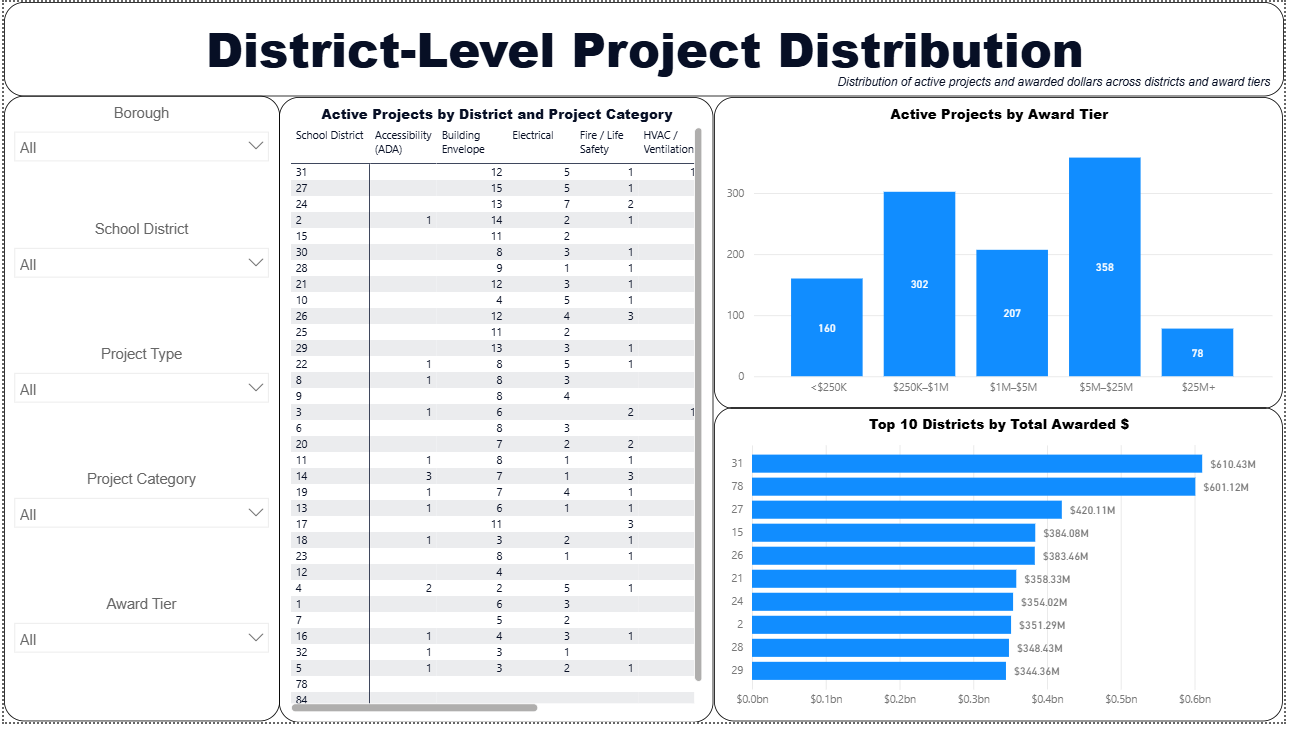

The page's visual inventory and layout, read from the dashboard file:
{"tool":"powerbi","page":{"name":"District Distribution","canvas":[1280,720],"ordinal":1},"visuals":[{"type":"textbox","box":[0,0,1280,94.3],"z":0},{"type":"textbox","box":[700,63.8,571.2,61.2],"z":1000},{"type":"shape","box":[0,94.3,275.7,625.7],"z":2000},{"type":"slicer","title":"Borough","fields":{"Values":["Fact_ActiveProjects_All.Borough"]},"box":[0,102.5,275,116.2],"z":3000},{"type":"slicer","title":"School District","fields":{"Values":["Fact_ActiveProjects_All.School District"]},"box":[0,218.8,275,125],"z":4000},{"type":"slicer","title":"Project Type","fields":{"Values":["Fact_ActiveProjects_All.Project Type"]},"box":[0,343.8,275,125],"z":5000},{"type":"slicer","title":"Project Category","fields":{"Values":["Fact_ActiveProjects_All.Project Category"]},"box":[0,468.8,275,125],"z":6000},{"type":"slicer","title":"Award Tier","fields":{"Values":["Fact_ActiveProjects_All.Award Tier"]},"box":[0,593.8,275,125],"z":7000},{"type":"pivotTable","title":"Active Projects by District and Project Category","fields":{"Rows":["Fact_ActiveProjects_All.School District"],"Columns":["Fact_ActiveProjects_All.Project Category"],"Values":["Measures_Table.Active Projects"]},"box":[275.6,94.4,434.4,625.6],"z":8000},{"type":"clusteredColumnChart","title":"Active Projects by Award Tier","fields":{"Category":["Fact_ActiveProjects_All.Award Tier"],"Y":["Measures_Table.Active Projects"]},"box":[710,94.4,568.9,312.2],"z":9000},{"type":"clusteredBarChart","title":"Top 10 Districts by Total Awarded $","fields":{"Category":["Fact_ActiveProjects_All.School District"],"Y":["Measures_Table.Total Awarded $"]},"box":[710,405.6,568.9,314.4],"z":10000}]}

Visuals, with their boxes in screenshot pixels (x1, y1, x2, y2), scaled from the page's 1280x720 canvas onto the 1291x730 screenshot:
textbox: region(0, 0, 1290, 96)
textbox: region(706, 65, 1282, 127)
shape: region(0, 96, 278, 729)
"Borough" slicer: region(0, 104, 277, 222)
"School District" slicer: region(0, 222, 277, 349)
"Project Type" slicer: region(0, 349, 277, 475)
"Project Category" slicer: region(0, 475, 277, 602)
"Award Tier" slicer: region(0, 602, 277, 729)
"Active Projects by District and Project Category" pivotTable: region(278, 96, 716, 729)
"Active Projects by Award Tier" clusteredColumnChart: region(716, 96, 1290, 412)
"Top 10 Districts by Total Awarded $" clusteredBarChart: region(716, 411, 1290, 729)
